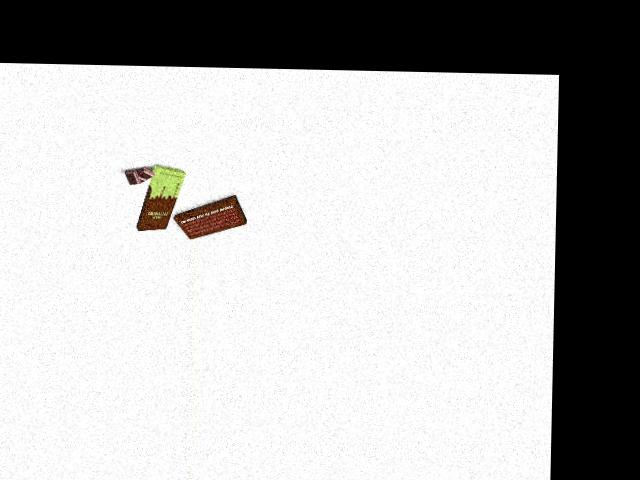chocolate: (141, 162, 182, 233)
